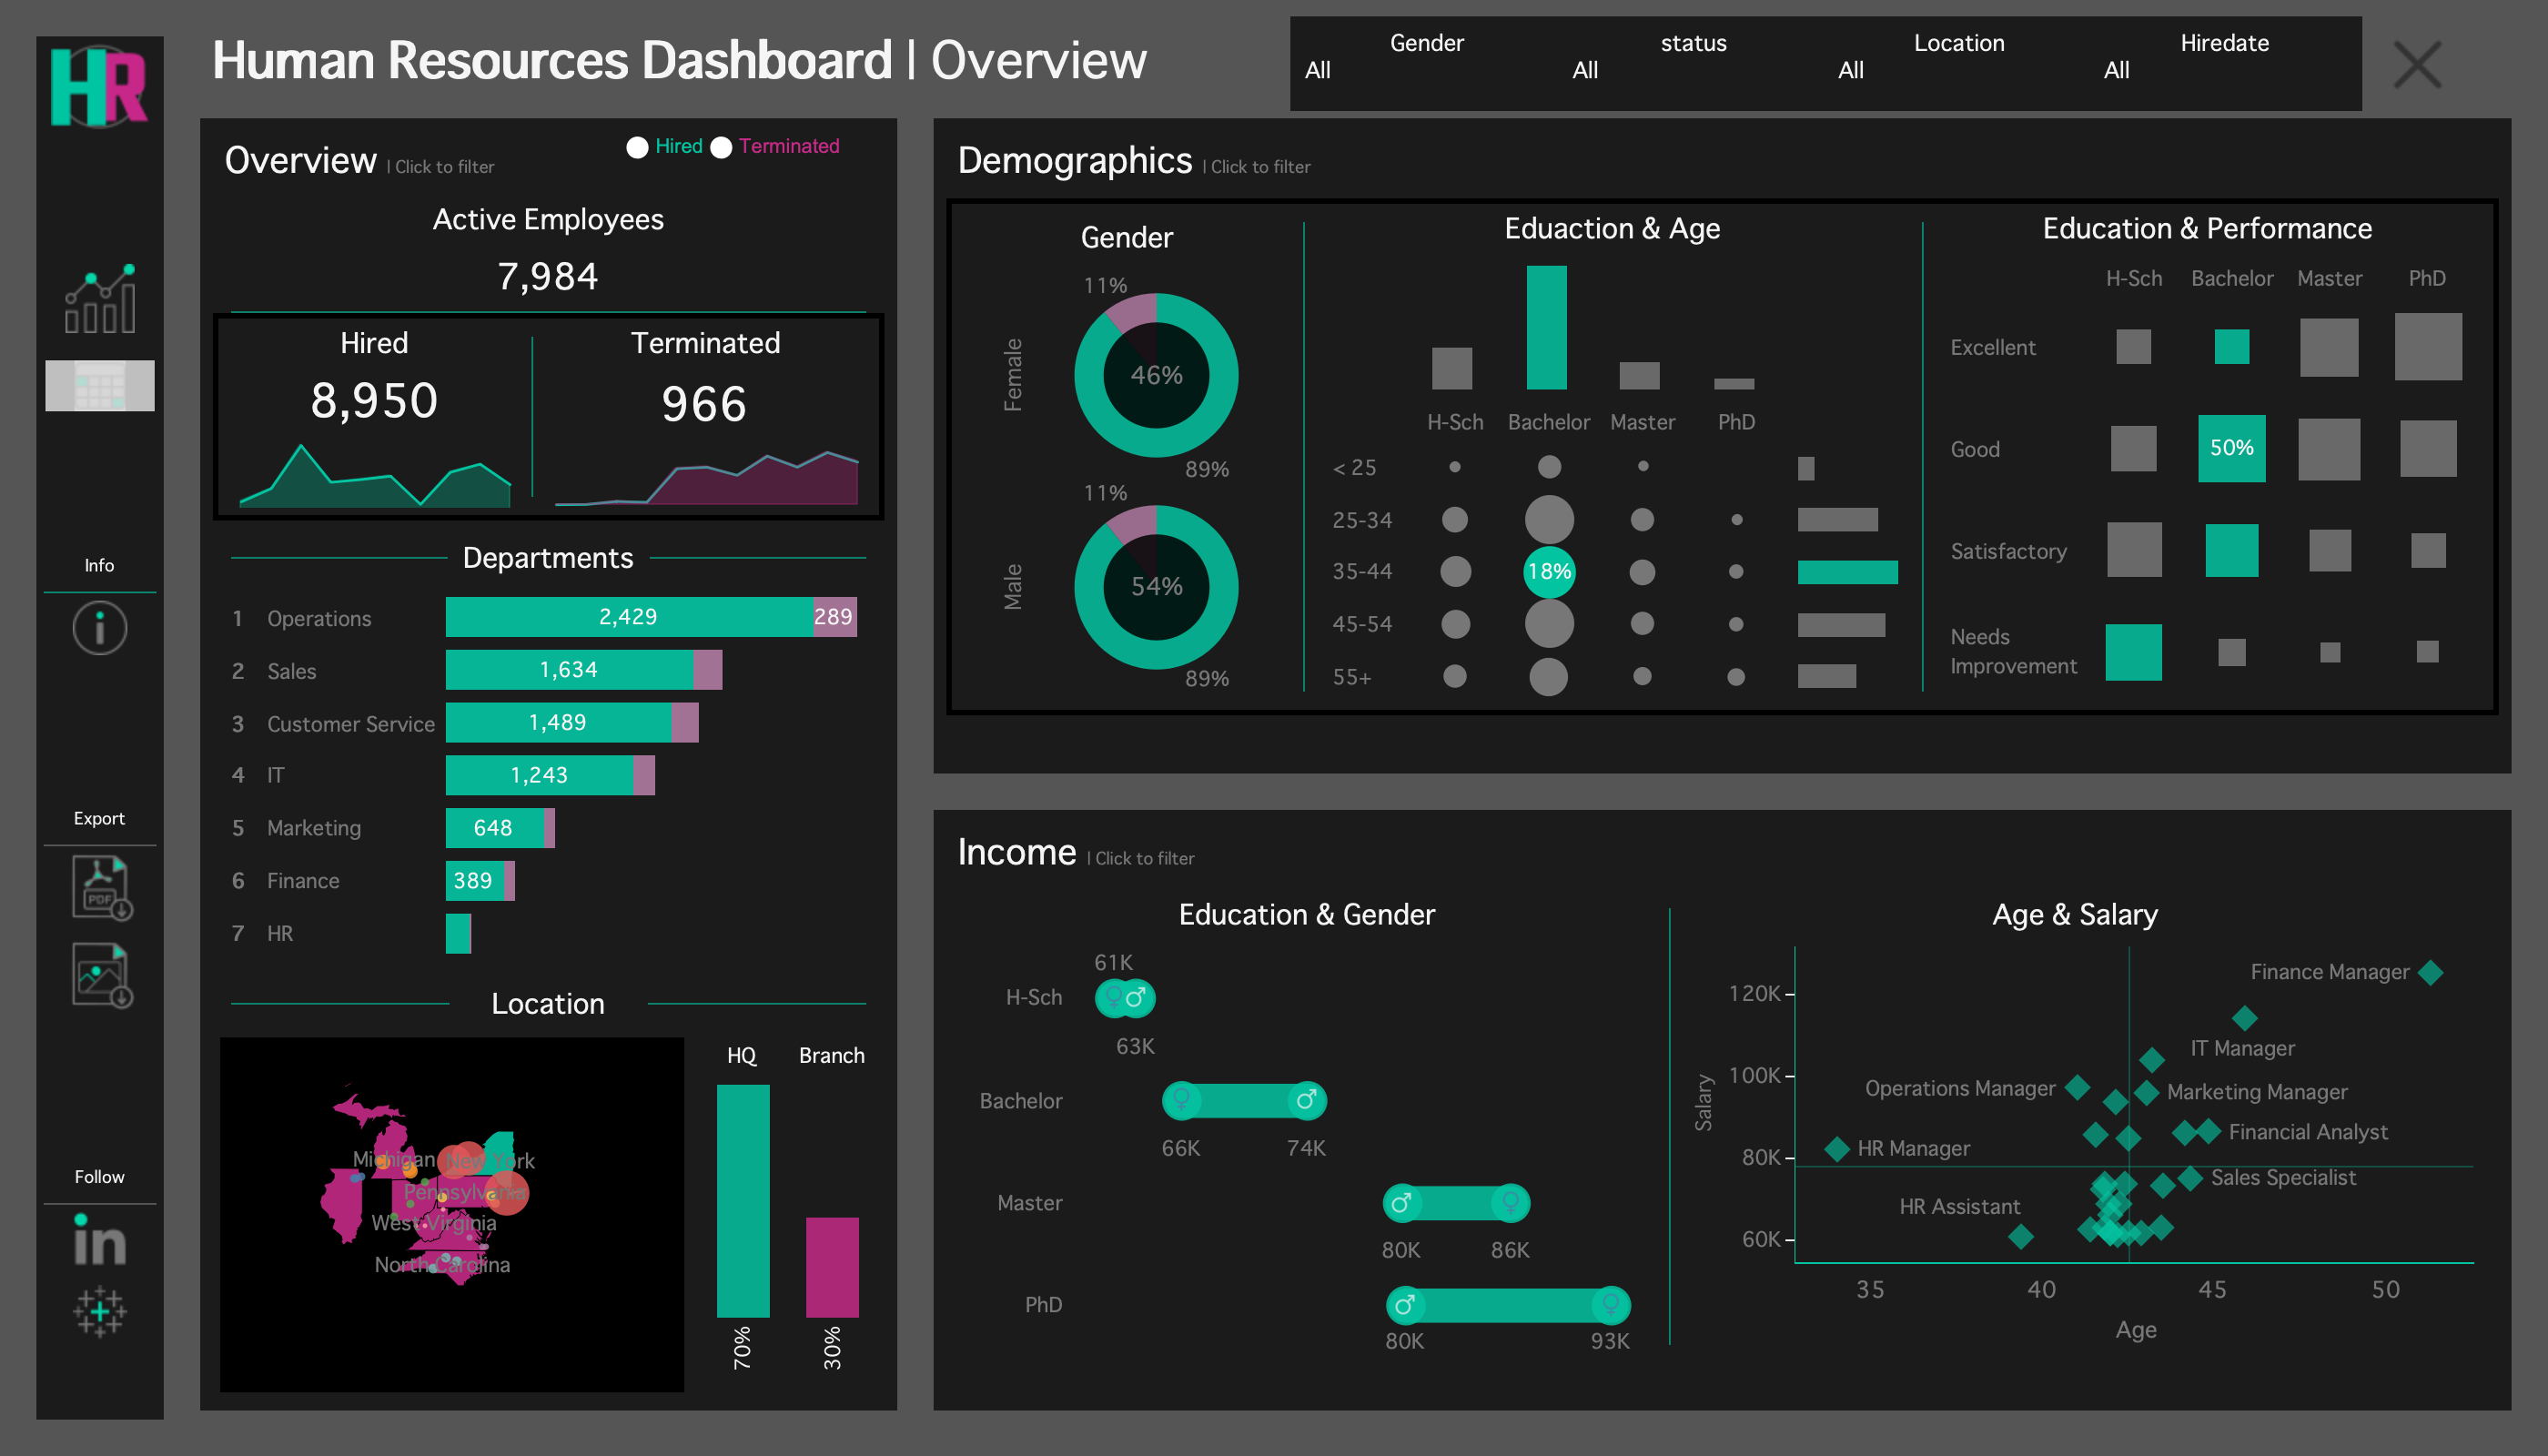

This screenshot's page, from the dashboard's own definition file:
{"tool":"tableau","page":{"name":"HR Summary","canvas":[1400,800],"ordinal":2},"visuals":[{"type":"blank","box":[92,0,1309,281]},{"type":"text","box":[110,0,675,65]},{"type":"blank","box":[785,0,595,65]},{"type":"dashboard-object","box":[8,8,1384,784]},{"type":"text","box":[1300,10,81,23]},{"type":"filter","title":"Gender vs Education Level","param":"[federated.0xdmb9m0lxcrq31fi3ttc05pentm].[none:Gender:nk]","box":[711,11,147,48]},{"type":"filter","title":"Gender vs Education Level","param":"[federated.0xdmb9m0lxcrq31fi3ttc05pentm].[none:Calculation_0084885215375375:nk]","box":[858,11,146,48]},{"type":"filter","title":"Gender vs Education Level","param":"[federated.0xdmb9m0lxcrq31fi3ttc05pentm].[none:Calculation_0084884590469127:nk]","box":[1004,11,146,48]},{"type":"filter","title":"Gender vs Education Level","param":"[federated.0xdmb9m0lxcrq31fi3ttc05pentm].[yr:Hiredate:ok]","box":[1150,11,146,48]},{"type":"image","param":"Image/Logo.png","box":[20,20,70,55]},{"type":"dashboard-object","box":[1315,30,51,39]},{"type":"text","box":[117,72,369,32]},{"type":"text","box":[520,72,853,32]},{"type":"text","box":[341,73,122,16]},{"type":"blank","box":[20,75,70,70]},{"type":"text","box":[117,104,369,30]},{"type":"blank","box":[716,112,1,278]},{"type":"text","box":[722,112,329,27]},{"type":"blank","box":[1056,112,1,278]},{"type":"text","box":[1062,112,303,27]},{"type":"text","box":[528,117,183,27]},{"type":"worksheet","title":"BAN Active","mark":"Text","box":[117,134,369,37]},{"type":"worksheet","title":"Education Level","mark":"Bar","rows":["Calculation_0084884524343297"],"cols":["Education Level"],"box":[722,139,329,79]},{"type":"worksheet","title":"Education vs Performance","mark":"Square","rows":["Performance Rating"],"cols":["Education Level"],"box":[1062,139,303,251]},{"type":"worksheet","title":"Gender Ratio","mark":"Pie","rows":["Gender"],"cols":["Calculation_0084884696961035","Calculation_0084884696961035"],"box":[528,144,183,241]},{"type":"dashboard-object","box":[20,145,70,38]},{"type":"blank","box":[117,171,369,1]},{"type":"text","box":[120,175,172,27]},{"type":"blank","box":[292,175,1,108]},{"type":"text","box":[293,175,189.9,27]},{"type":"blank","box":[20,183,70,10]},{"type":"dashboard-object","box":[20,193,70,38]},{"type":"worksheet","title":"BAN Hired","mark":"Text","box":[120,202,172,36]},{"type":"worksheet","title":"BAN Terminated","mark":"Text","box":[293,202,189.9,40]},{"type":"worksheet","title":"Age vs Education","mark":"Circle","rows":["Calculation_0084884863643661"],"cols":["Education Level"],"box":[722,218,262,172]},{"type":"worksheet","title":"Age Groups","mark":"Bar","rows":["Calculation_0084884863643661"],"cols":["Calculation_0084884524343297"],"box":[984,218,67,172]},{"type":"blank","box":[20,231,70,70]},{"type":"worksheet","title":"Hire by year","mark":"Line","rows":["Calculation_0084884524343297","Calculation_0084884524343297"],"cols":["Hiredate"],"box":[120,238,172,45]},{"type":"worksheet","title":"Terminated by year","mark":"Line","rows":["Calculation_0084884526571523","Calculation_0084884526571523"],"cols":["Termdate"],"box":[293,242,189.9,41]},{"type":"text","box":[92,281,1309,307]},{"type":"blank","box":[127,291,119,30]},{"type":"text","box":[246,291,111,30]},{"type":"blank","box":[357,291,119,30]},{"type":"text","box":[20,301,70,20]},{"type":"blank","box":[20,321,70,9]},{"type":"worksheet","title":"Departments","mark":"Bar","rows":["Calculation_0084884586975238","Department"],"cols":["Calculation_0084884524343297"],"box":[117,321,369,210]},{"type":"dashboard-object","box":[20,330,70,30]},{"type":"blank","box":[20,360,70,80]},{"type":"blank","box":[520,393,853,25]},{"type":"text","box":[20,440,70,20]},{"type":"text","box":[520,452,853,32]},{"type":"blank","box":[20,460,70,9]},{"type":"dashboard-object","box":[20,469,70,38]},{"type":"text","box":[525,489,387,27]},{"type":"blank","box":[917,489,1,260]},{"type":"text","box":[918,489,445,27]},{"type":"blank","box":[20,507,70,10]},{"type":"worksheet","title":"Gender vs Education Level","mark":"Line","rows":["Education Level"],"cols":["Salary","Salary"],"box":[525,516,387,233]},{"type":"worksheet","title":"Age vs Salary","mark":"Automatic","rows":["Salary"],"cols":["Calculation_0084884858269708"],"box":[918,516,445,233]},{"type":"dashboard-object","box":[20,517,70,38]},{"type":"blank","box":[127,536,120.3,30]},{"type":"text","box":[247.3,536,108.3,30]},{"type":"blank","box":[355.7,536,120.3,30]},{"type":"blank","box":[20,555,70,82]},{"type":"worksheet","title":"Map States","mark":"Automatic","box":[117,566,262,202]},{"type":"worksheet","title":"Location","mark":"Automatic","rows":["Calculation_0084884524343297"],"cols":["Calculation_0084884590469127","Calculation_0084884524343297"],"box":[379,566,107,202]},{"type":"blank","box":[92,588,1309,212]},{"type":"text","box":[20,637,70,20]},{"type":"blank","box":[20,657,70,9]},{"type":"image","param":"Image/contact-linkedin.png","box":[20,666,70,30]},{"type":"blank","box":[20,696,70,10]},{"type":"image","param":"Image/contact-public.png","box":[20,706,70,30]},{"type":"blank","box":[20,736,70,44]}]}

Visuals, with their boxes in screenshot pixels (x1, y1, x2, y2), scaled from the page's 1400x800 canvas onto the 2548x1456 screenshot:
blank: l=167, t=0, r=2547, b=511
text: l=200, t=0, r=1429, b=118
blank: l=1429, t=0, r=2512, b=118
dashboard-object: l=15, t=15, r=2533, b=1441
text: l=2366, t=18, r=2513, b=60
"Gender vs Education Level" filter: l=1294, t=20, r=1562, b=107
"Gender vs Education Level" filter: l=1562, t=20, r=1827, b=107
"Gender vs Education Level" filter: l=1827, t=20, r=2093, b=107
"Gender vs Education Level" filter: l=2093, t=20, r=2359, b=107
image: l=36, t=36, r=164, b=136
dashboard-object: l=2393, t=55, r=2486, b=126
text: l=213, t=131, r=885, b=189
text: l=946, t=131, r=2499, b=189
text: l=621, t=133, r=843, b=162
blank: l=36, t=136, r=164, b=264
text: l=213, t=189, r=885, b=244
blank: l=1303, t=204, r=1305, b=710
text: l=1314, t=204, r=1913, b=253
blank: l=1922, t=204, r=1924, b=710
text: l=1933, t=204, r=2484, b=253
text: l=961, t=213, r=1294, b=262
"BAN Active" worksheet (Text marks): l=213, t=244, r=885, b=311
"Education Level" worksheet (Bar marks): l=1314, t=253, r=1913, b=397
"Education vs Performance" worksheet (Square marks): l=1933, t=253, r=2484, b=710
"Gender Ratio" worksheet (Pie marks): l=961, t=262, r=1294, b=701
dashboard-object: l=36, t=264, r=164, b=333
blank: l=213, t=311, r=885, b=313
text: l=218, t=318, r=531, b=368
blank: l=531, t=318, r=533, b=515
text: l=533, t=318, r=879, b=368
blank: l=36, t=333, r=164, b=351
dashboard-object: l=36, t=351, r=164, b=420
"BAN Hired" worksheet (Text marks): l=218, t=368, r=531, b=433
"BAN Terminated" worksheet (Text marks): l=533, t=368, r=879, b=440
"Age vs Education" worksheet (Circle marks): l=1314, t=397, r=1791, b=710
"Age Groups" worksheet (Bar marks): l=1791, t=397, r=1913, b=710
blank: l=36, t=420, r=164, b=548
"Hire by year" worksheet (Line marks): l=218, t=433, r=531, b=515
"Terminated by year" worksheet (Line marks): l=533, t=440, r=879, b=515
text: l=167, t=511, r=2547, b=1070
blank: l=231, t=530, r=448, b=584
text: l=448, t=530, r=650, b=584
blank: l=650, t=530, r=866, b=584
text: l=36, t=548, r=164, b=584
blank: l=36, t=584, r=164, b=601
"Departments" worksheet (Bar marks): l=213, t=584, r=885, b=966
dashboard-object: l=36, t=601, r=164, b=655
blank: l=36, t=655, r=164, b=801
blank: l=946, t=715, r=2499, b=761
text: l=36, t=801, r=164, b=837
text: l=946, t=823, r=2499, b=881
blank: l=36, t=837, r=164, b=854
dashboard-object: l=36, t=854, r=164, b=923
text: l=955, t=890, r=1660, b=939
blank: l=1669, t=890, r=1671, b=1363
text: l=1671, t=890, r=2481, b=939
blank: l=36, t=923, r=164, b=941
"Gender vs Education Level" worksheet (Line marks): l=955, t=939, r=1660, b=1363
"Age vs Salary" worksheet: l=1671, t=939, r=2481, b=1363
dashboard-object: l=36, t=941, r=164, b=1010
blank: l=231, t=976, r=450, b=1030
text: l=450, t=976, r=647, b=1030
blank: l=647, t=976, r=866, b=1030
blank: l=36, t=1010, r=164, b=1159
"Map States" worksheet: l=213, t=1030, r=690, b=1398
"Location" worksheet: l=690, t=1030, r=885, b=1398
blank: l=167, t=1070, r=2547, b=1455
text: l=36, t=1159, r=164, b=1196
blank: l=36, t=1196, r=164, b=1212
image: l=36, t=1212, r=164, b=1267
blank: l=36, t=1267, r=164, b=1285
image: l=36, t=1285, r=164, b=1340
blank: l=36, t=1340, r=164, b=1420
